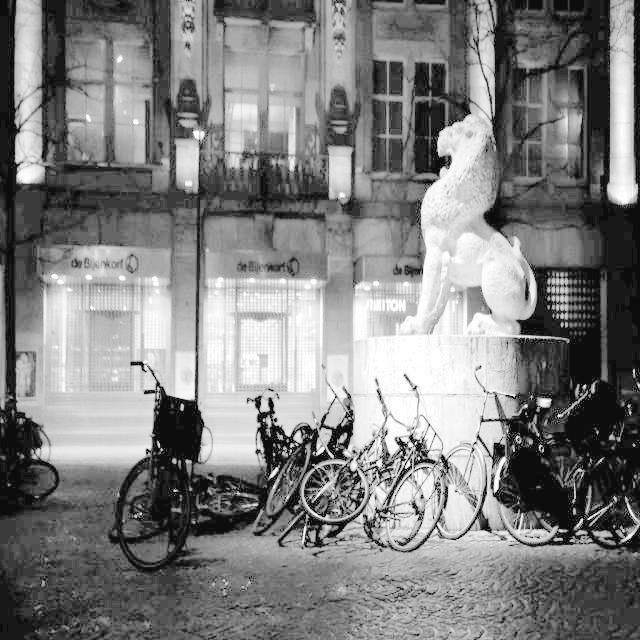Bicycle: (114, 350, 211, 586), (539, 352, 640, 577), (476, 337, 564, 567), (343, 346, 429, 564), (411, 331, 493, 543), (270, 368, 356, 562), (0, 397, 66, 522)
